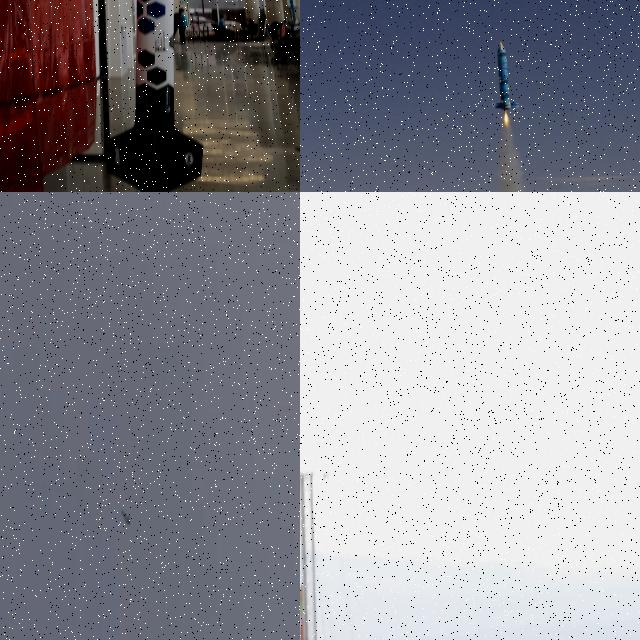Rocket: (106, 0, 203, 192), (492, 41, 520, 111), (300, 583, 312, 640), (121, 510, 131, 526)
